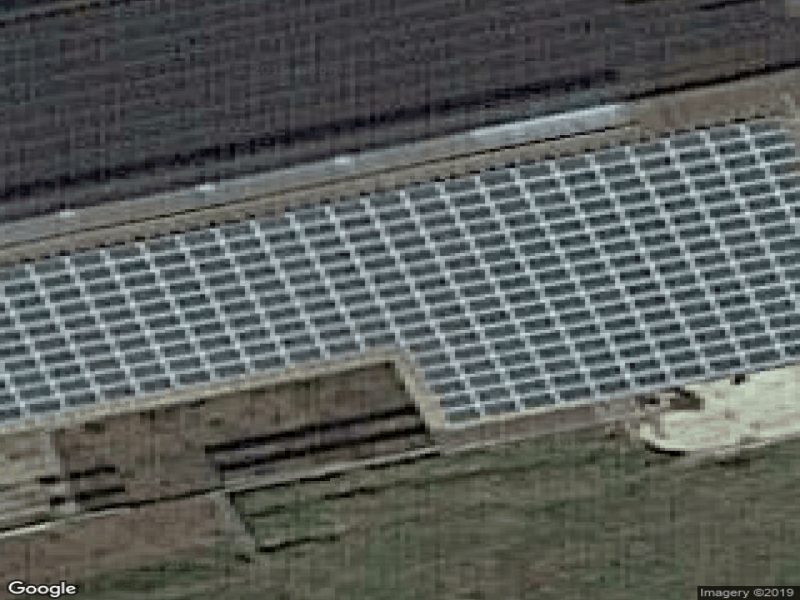pv: (4, 114, 800, 427)
